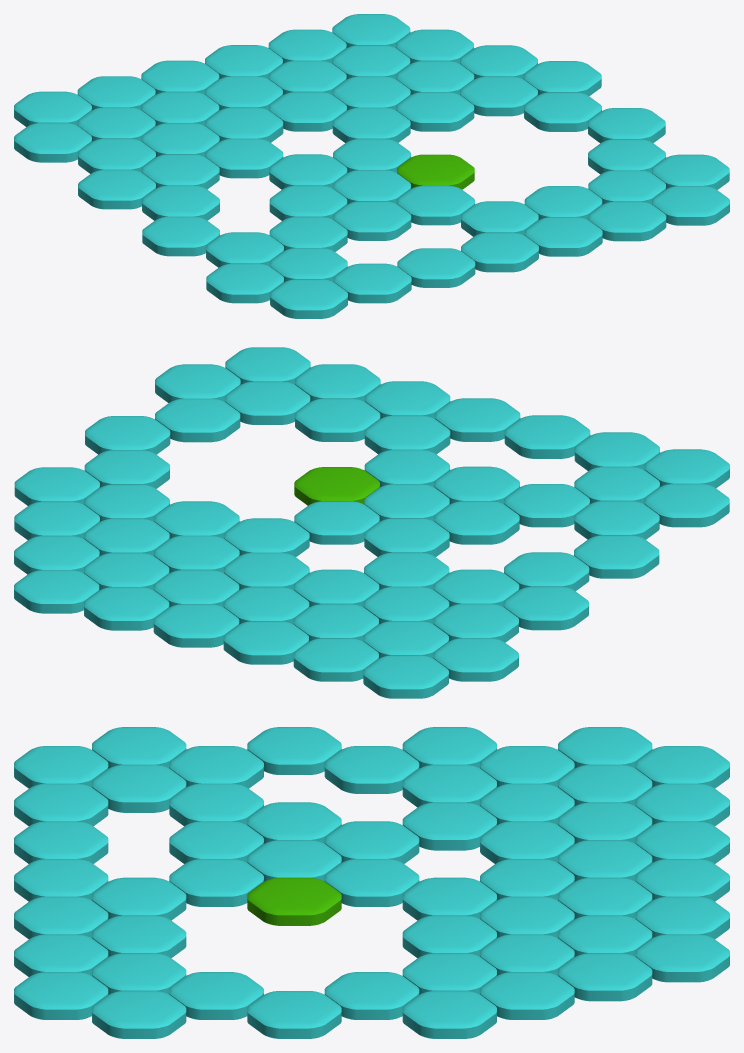
Rendered from Cell.fbx.
3 renders of one model, top to bottom at view 1: azimuth 30°, elevation 25°; view 2: azimuth 150°, elevation 25°; view 3: azimuth 270°, elevation 25°, orthographic. The views are drawn at different scales.
Parts seen in each view (by area): view 1: Cylinder.002; view 2: Cylinder.002; view 3: Cylinder.002.
Part boxes in pixels (left/top/right/bottom): Cylinder.002: left=14, top=14, right=729, bottom=318; Cylinder.002: left=14, top=347, right=729, bottom=698; Cylinder.002: left=14, top=727, right=729, bottom=1038.
Bounding box in the file's own units: 4789 × 112 × 4811.
